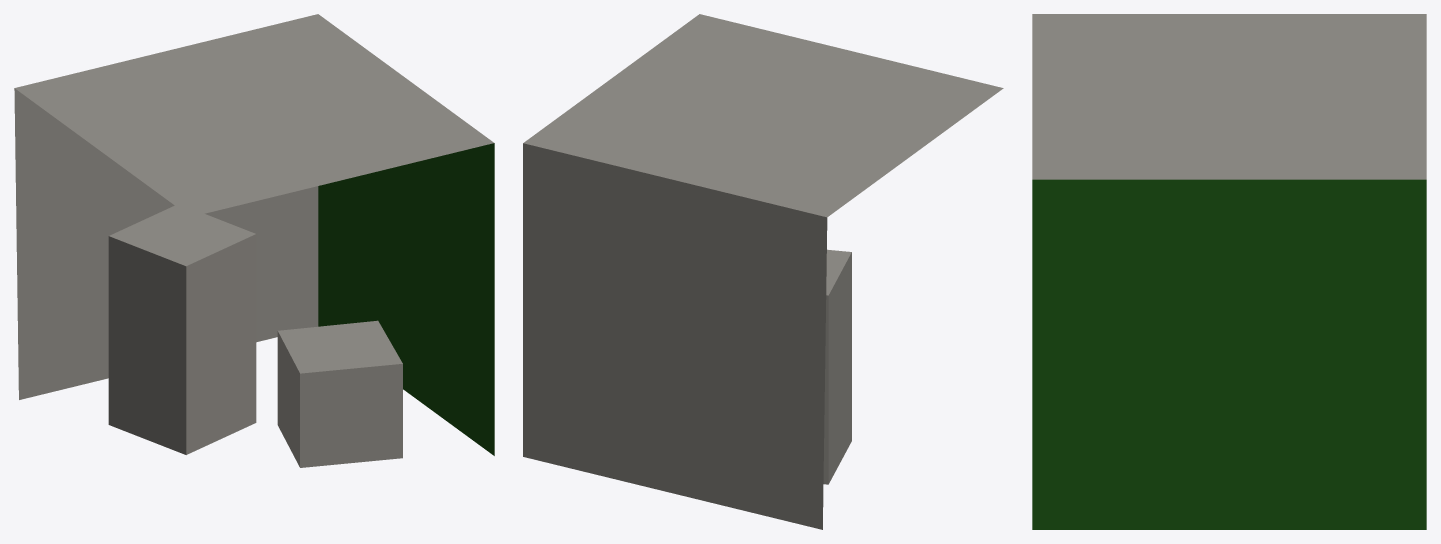
The model's file is cornellbox.obj.
The picture shows the model from 3 angles, left to right: view 1: azimuth 30°, elevation 25°; view 2: azimuth 150°, elevation 25°; view 3: azimuth 270°, elevation 25°; orthographic projection. The views are drawn at different scales.
Parts seen in each view (by area): view 1: ceiling, rightwall, backwall, tallbox, shortbox; view 2: backwall, ceiling, tallbox; view 3: rightwall, ceiling.
Boxes of the visible parts, left/top/right/bottom form: ceiling: left=15, top=14, right=493, bottom=216; rightwall: left=318, top=143, right=494, bottom=455; backwall: left=14, top=88, right=318, bottom=399; tallbox: left=108, top=205, right=256, bottom=454; shortbox: left=277, top=320, right=402, bottom=467; backwall: left=523, top=143, right=827, bottom=529; ceiling: left=523, top=14, right=1003, bottom=217; tallbox: left=823, top=249, right=851, bottom=484; rightwall: left=1032, top=179, right=1426, bottom=529; ceiling: left=1032, top=14, right=1426, bottom=179.
Size of what is drawn, in the model's own units: 2.02 by 1.99 by 2.03.
